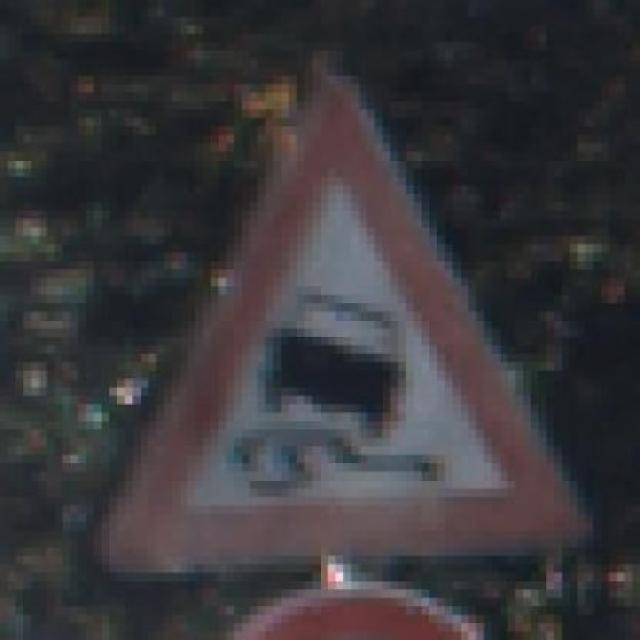Slippery Road Ahead: (85, 59, 593, 573)
